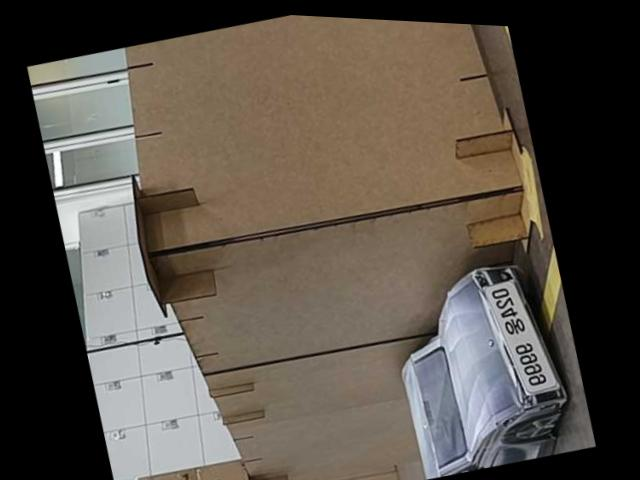car: (368, 241, 587, 480)
id: (473, 271, 565, 404)
